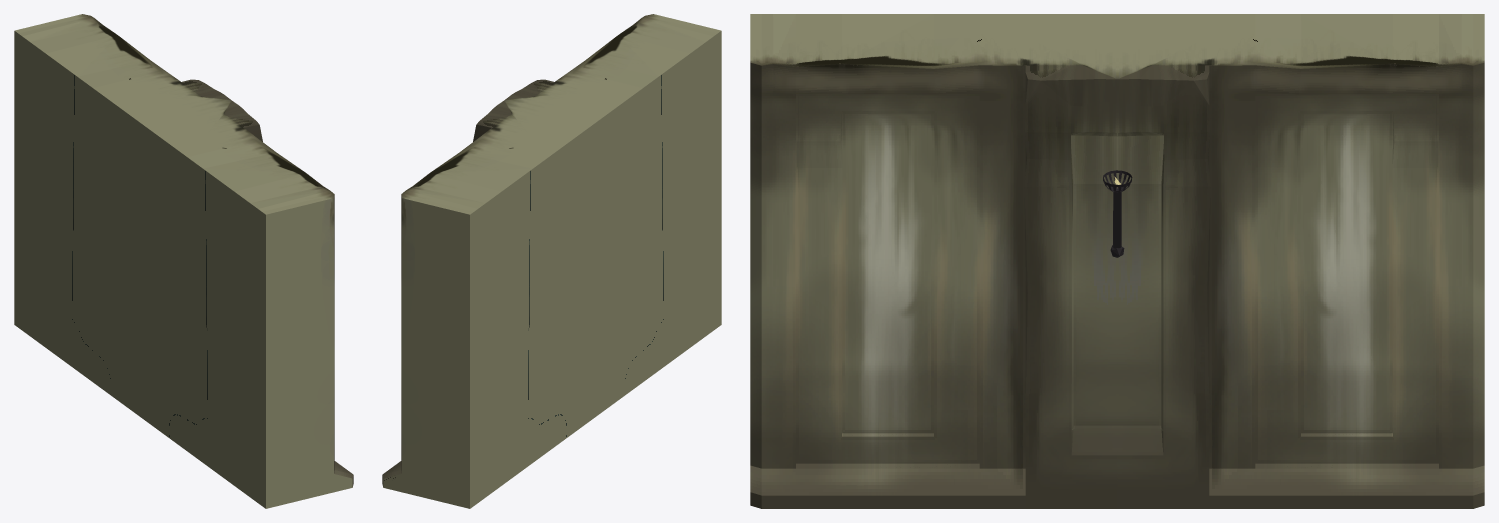
The model's file is wall.glb.
The picture shows the model from 3 angles, left to right: view 1: azimuth 30°, elevation 25°; view 2: azimuth 150°, elevation 25°; view 3: azimuth 270°, elevation 25°; orthographic projection. The views are drawn at different scales.
Parts seen in each view (by area): view 1: Wall; view 2: Wall; view 3: Wall.
Part boxes in pixels (bbox=[...]): Wall: bbox=[14, 14, 353, 508]; Wall: bbox=[382, 14, 721, 508]; Wall: bbox=[750, 14, 1484, 508].
Size of the model in its own units: 3.35 by 7.77 by 12.
4 materials, 1 textured.
